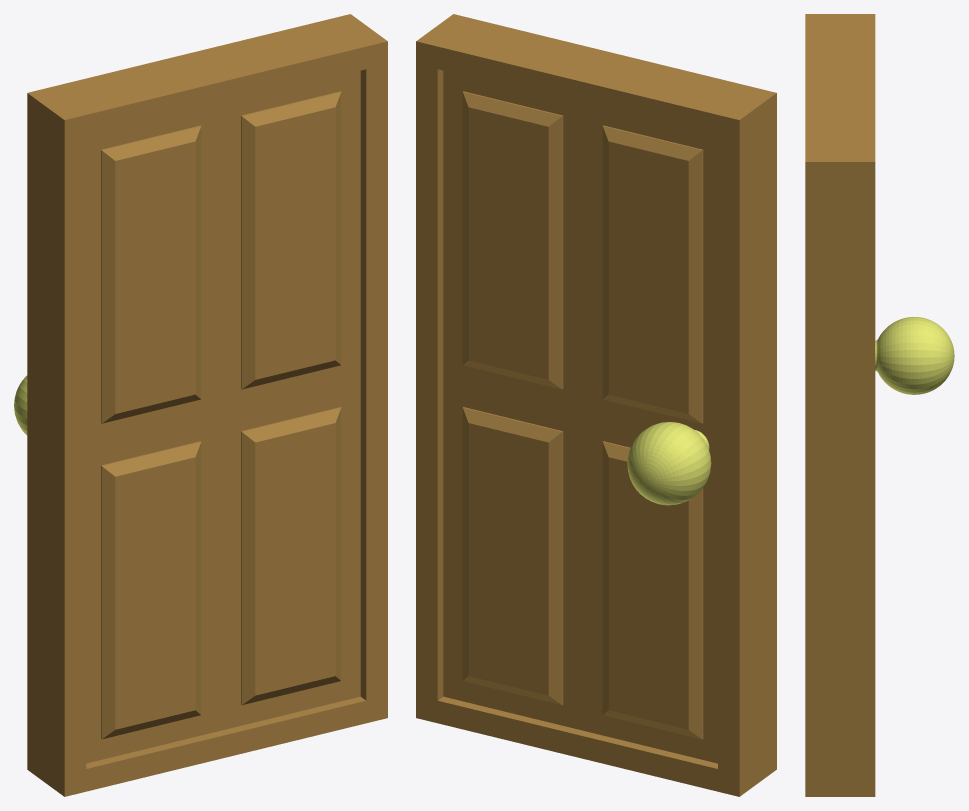
File: door1side (2) 1.fbx
The picture shows the model from 3 angles, left to right: view 1: azimuth 30°, elevation 25°; view 2: azimuth 150°, elevation 25°; view 3: azimuth 270°, elevation 25°; orthographic projection. The views are drawn at different scales.
Parts seen in each view (by area): view 1: Cube; view 2: Cube, Sphere; view 3: Cube, Sphere.
Part boxes in pixels (box(x1,y1,x2,y2)): Cube: box(27, 14, 387, 796); Cube: box(416, 14, 776, 796); Sphere: box(627, 422, 711, 505); Cube: box(805, 14, 875, 796); Sphere: box(875, 317, 954, 394).
Size of the model in its own units: 200 by 400 by 85.18.
